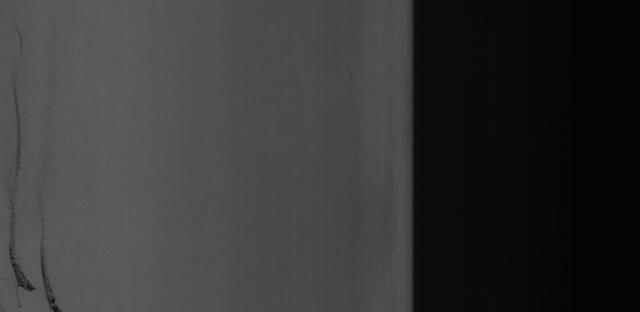inclusion: (1, 140, 32, 295), (33, 218, 60, 312)
